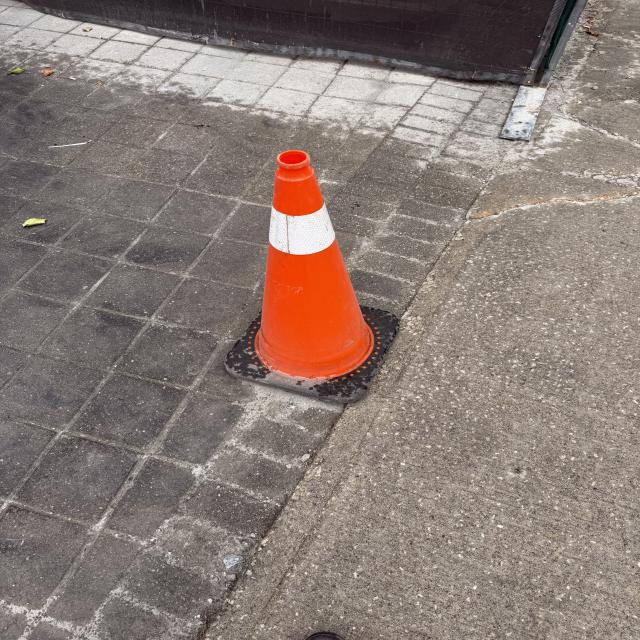Traffic Cone: (225, 148, 404, 401)
